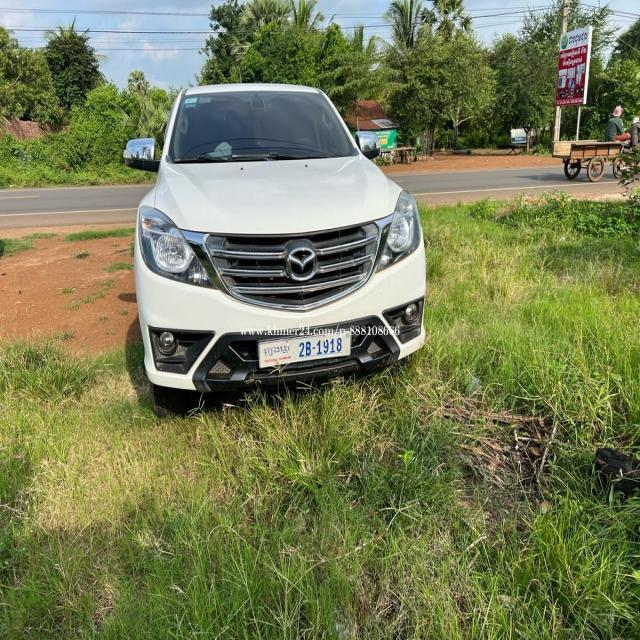Tboung_Khmum: (264, 344, 290, 356)
